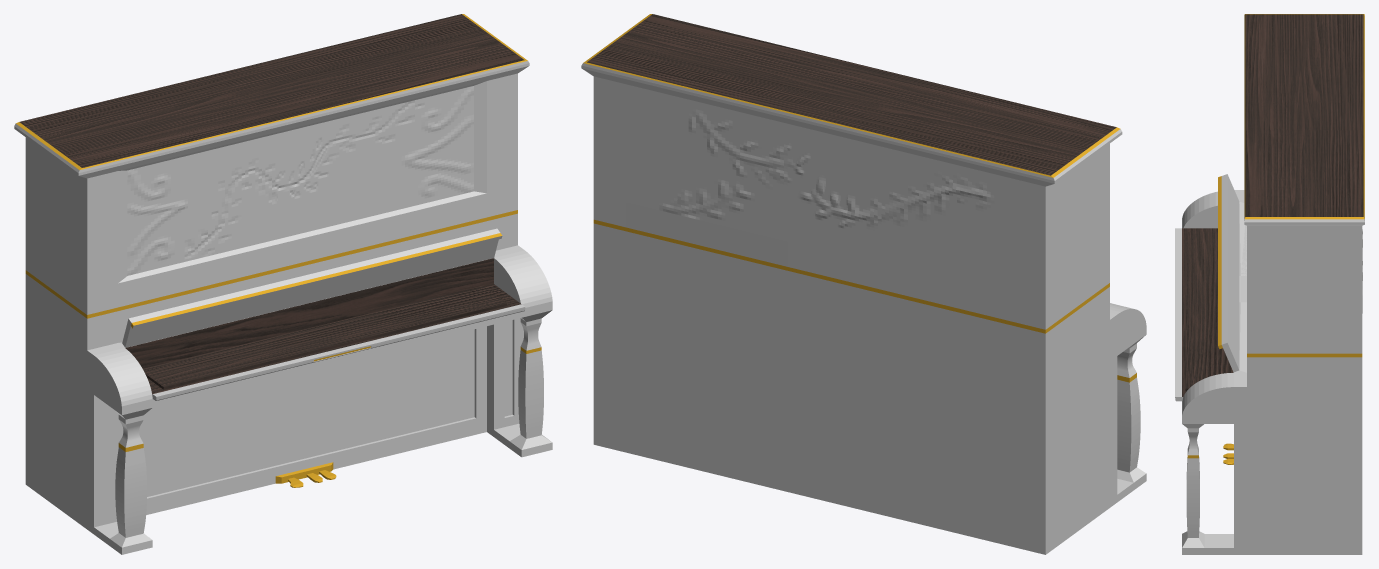
File: piano.glb
3 views of the same model, side by side, from view 1: azimuth 30°, elevation 25°; view 2: azimuth 150°, elevation 25°; view 3: azimuth 270°, elevation 25° (orthographic). The views are drawn at different scales.
Parts seen in each view (by area): view 1: piano; view 2: piano; view 3: piano.
Boxes of the visible parts, box(x1,y1,x2,y2) form: piano: box(14, 14, 552, 554); piano: box(581, 14, 1146, 554); piano: box(1175, 14, 1364, 554).
Size of the model in its own units: 8.48 by 6.53 by 3.3.
3 materials, 1 textured.
